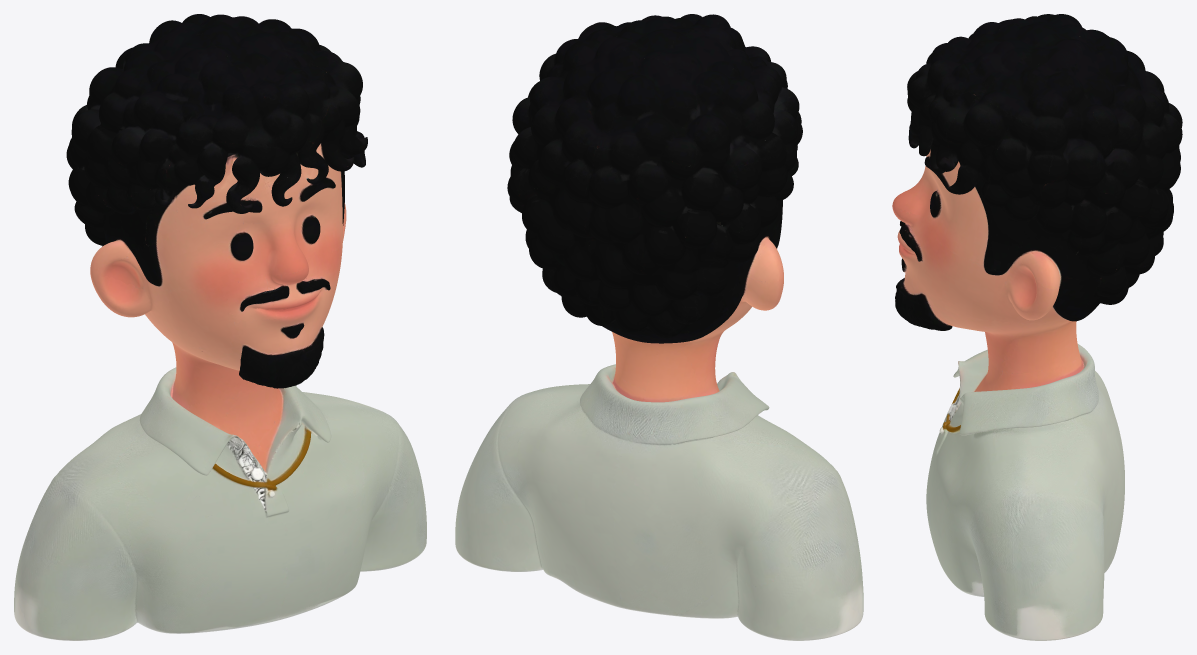
The model's file is avatar.glb.
3 renders of one model, left to right at view 1: azimuth 30°, elevation 25°; view 2: azimuth 150°, elevation 25°; view 3: azimuth 270°, elevation 25°, orthographic. The views are drawn at different scales.
Visible parts, largest first — view 1: mesh_node; view 2: mesh_node; view 3: mesh_node.
Part boxes in pixels (x1,y1,x2,y2): mesh_node: (14,14,426,640); mesh_node: (455,14,863,640); mesh_node: (892,14,1182,640).
Bounding box in the file's own units: 1.42 × 1.9 × 0.951.
Materials: 1 (1 with a texture image).
